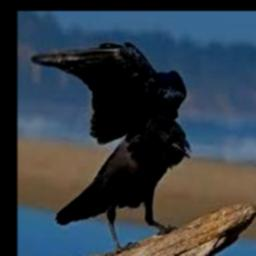Crow: (31, 41, 191, 256)
